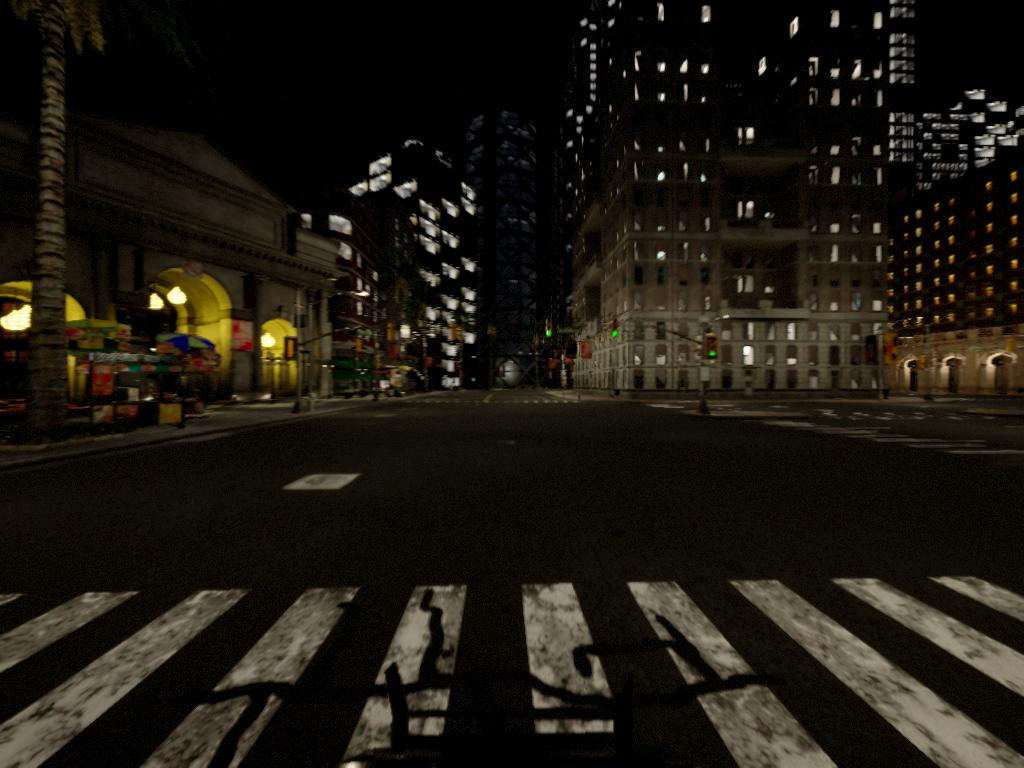traffic_light: (704, 337, 719, 364), (544, 320, 556, 340), (388, 324, 398, 344), (611, 321, 620, 341), (450, 323, 458, 345)
